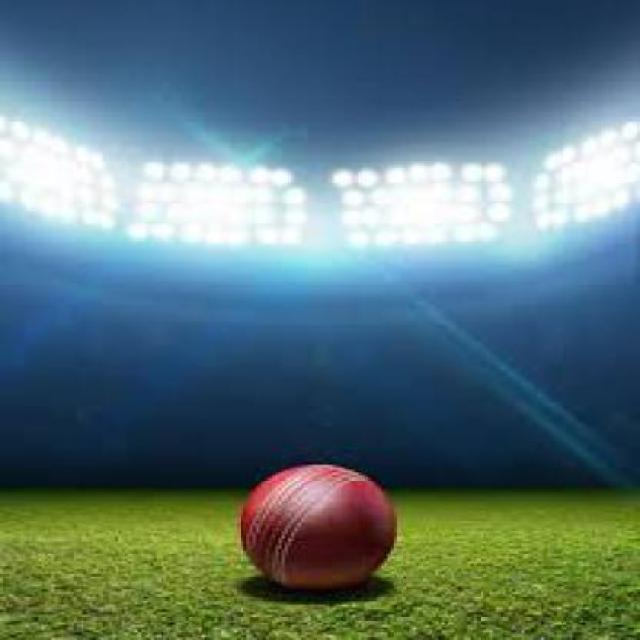-: (245, 466, 388, 595)
